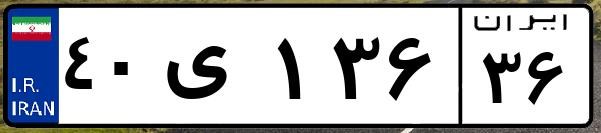0: (110, 28, 158, 98)
1: (270, 28, 330, 110)
3: (330, 28, 385, 110), (475, 38, 525, 113)
4: (57, 26, 110, 100)
6: (385, 28, 445, 110), (525, 38, 570, 115)
ی: (158, 20, 270, 120)
